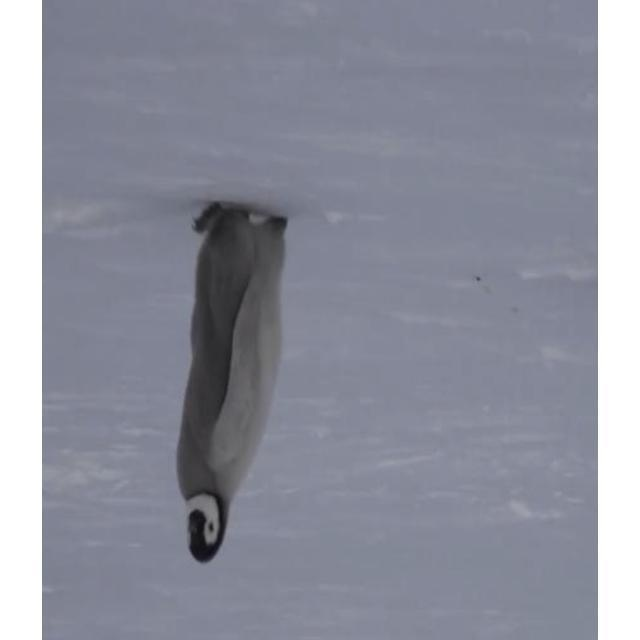penguin: (175, 201, 291, 565)
